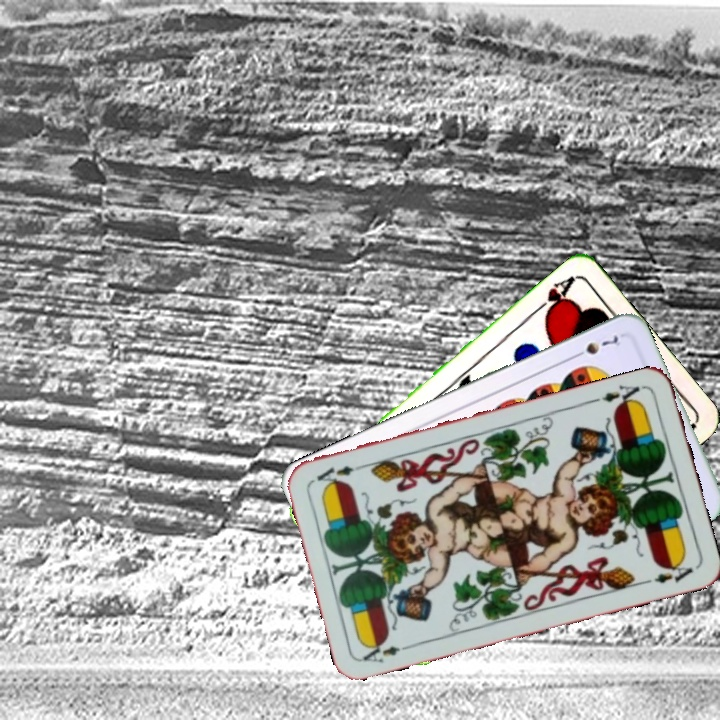EA: (359, 636, 416, 666), (598, 381, 643, 411)
HA: (529, 271, 578, 322)
S7: (568, 331, 624, 361)
